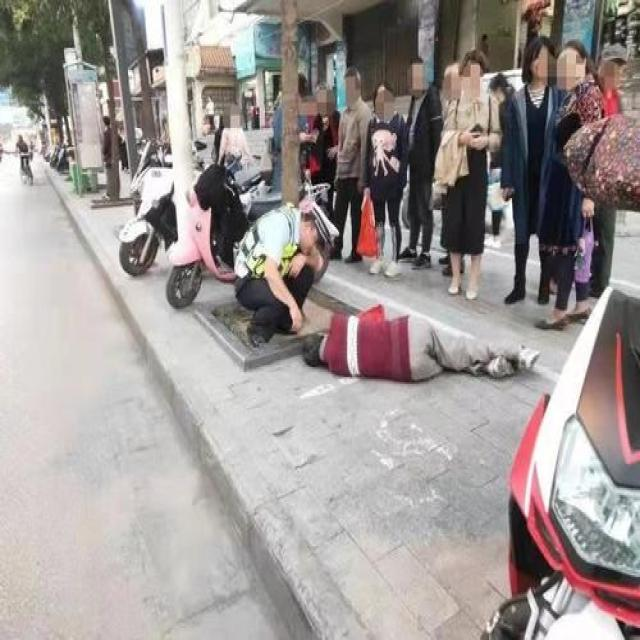10-: (0, 28, 639, 388)
down: (291, 288, 545, 388)
